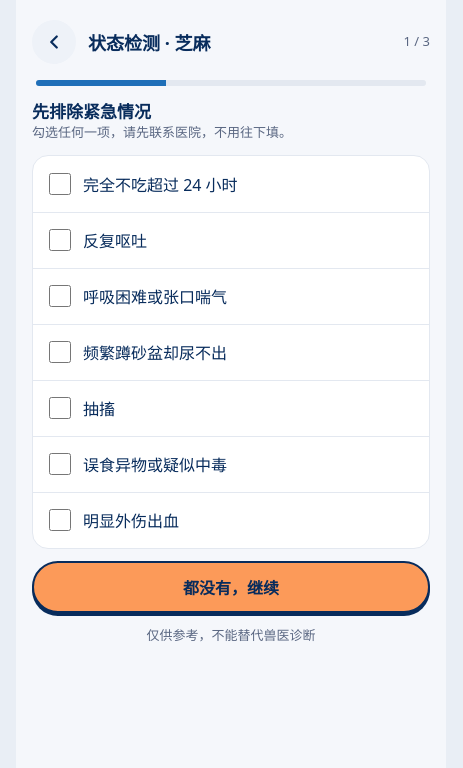
Test: 状态检测 › 勾选红旗直接建议就医，并生成摘要
Step 1. Click the checkbox labelled "频繁蹲砂盆却尿不出" → (60, 352), box [49, 341, 71, 363]
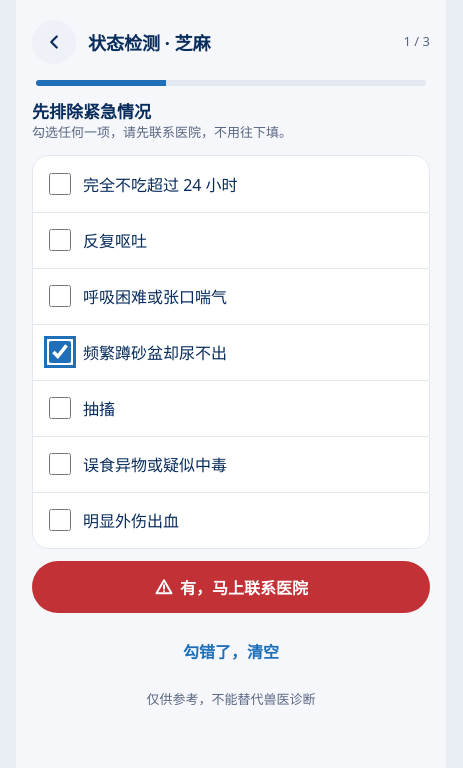
Expected: the button "都没有，继续" is gone
Step 2. Click the button "有，马上联系医院" → (231, 586), box [32, 560, 430, 612]
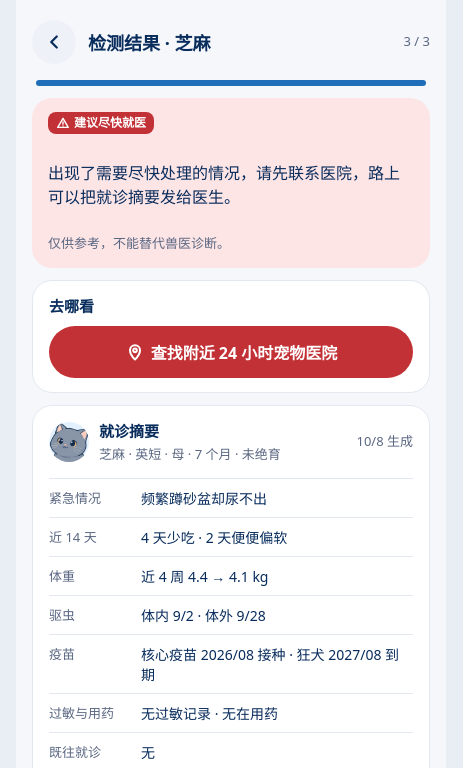
Expected: the text "紧急情况" is shown, [49, 489, 101, 507]
Expected: the text "建议尽快就医" is shown, [74, 114, 146, 132]
Expected: the link "查找附近 24 小时宠物医院" is shown, [49, 326, 413, 378]
